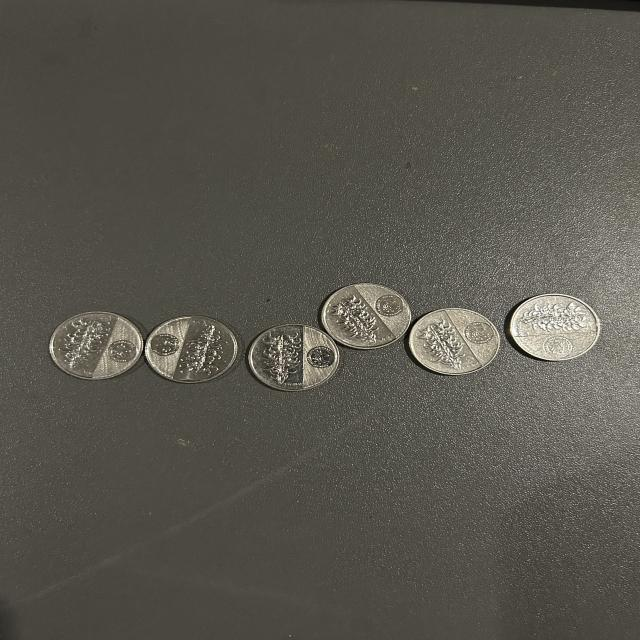5_New_Back: (55, 316, 111, 378), (509, 296, 591, 338), (250, 328, 303, 384), (328, 295, 387, 345), (417, 318, 470, 370), (179, 321, 229, 376)
